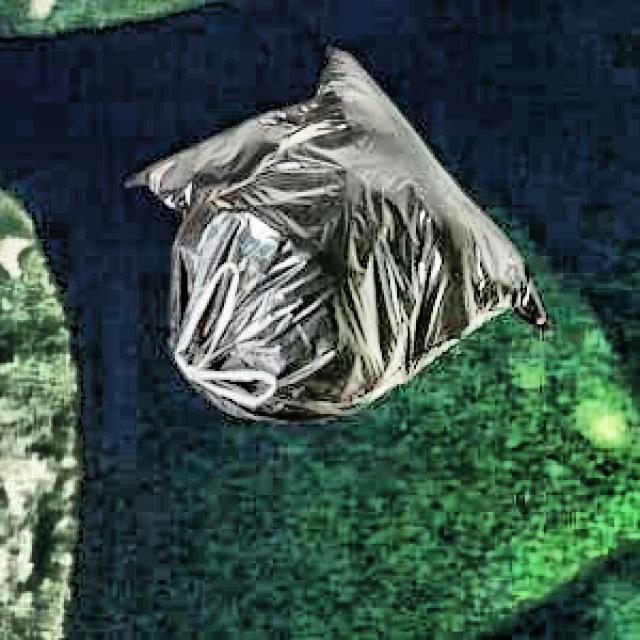Trashbag: (125, 41, 561, 429)
